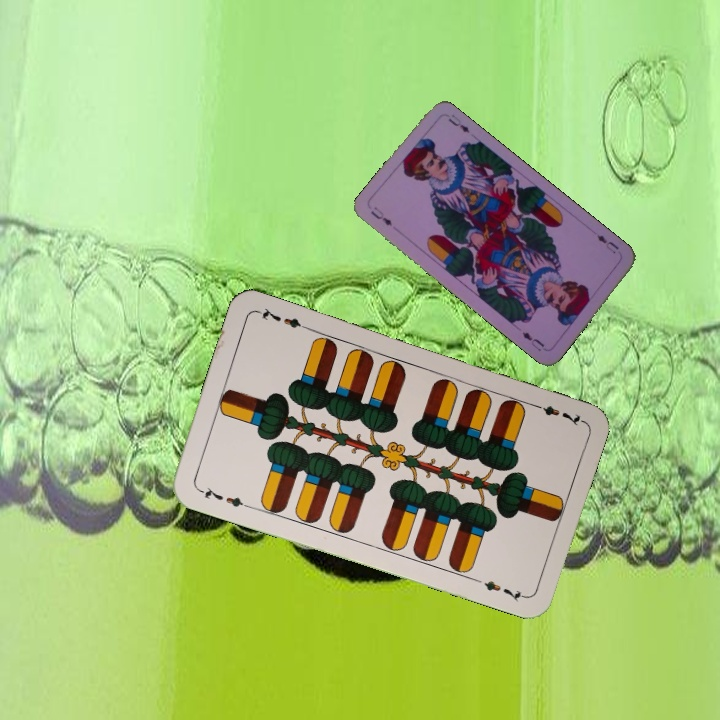E7: (527, 399, 585, 429), (194, 482, 252, 511)
EU: (593, 230, 622, 256), (366, 203, 395, 229)
